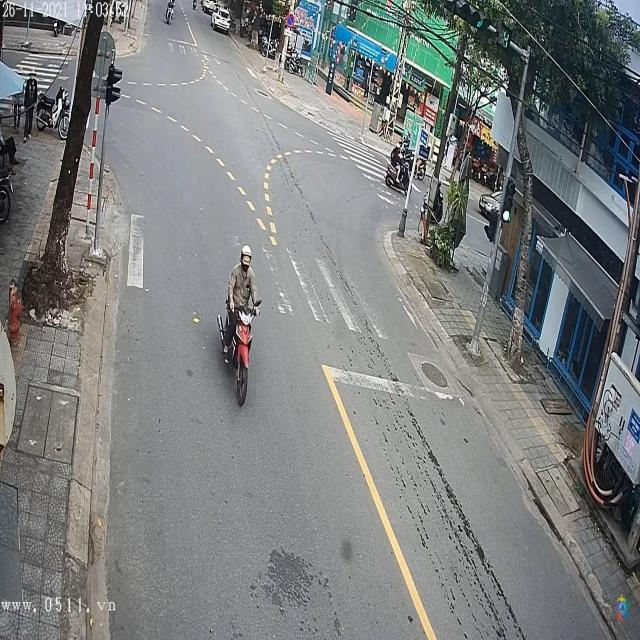motorcycle: (215, 282, 258, 408), (387, 153, 411, 199)
